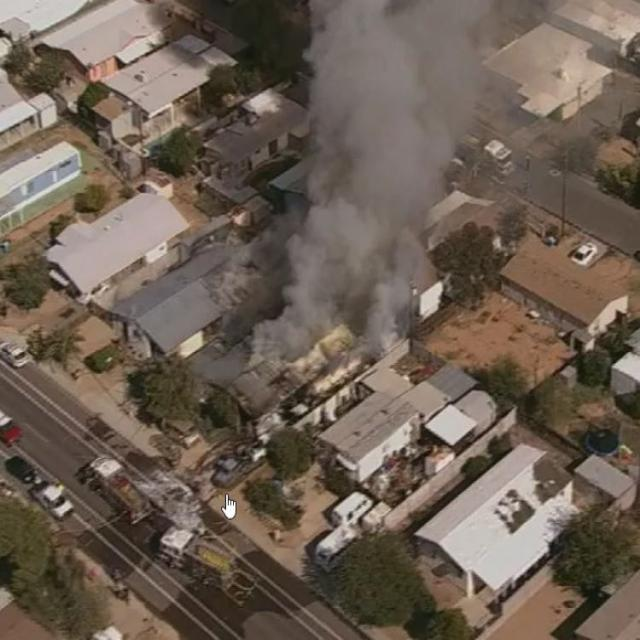Smoke: (248, 0, 491, 377)
